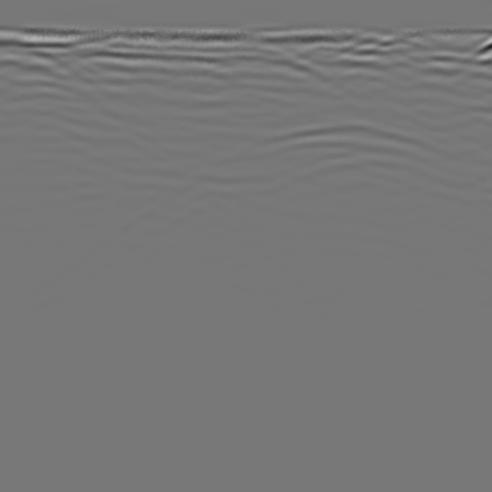hyperbola: (221, 109, 461, 225)
